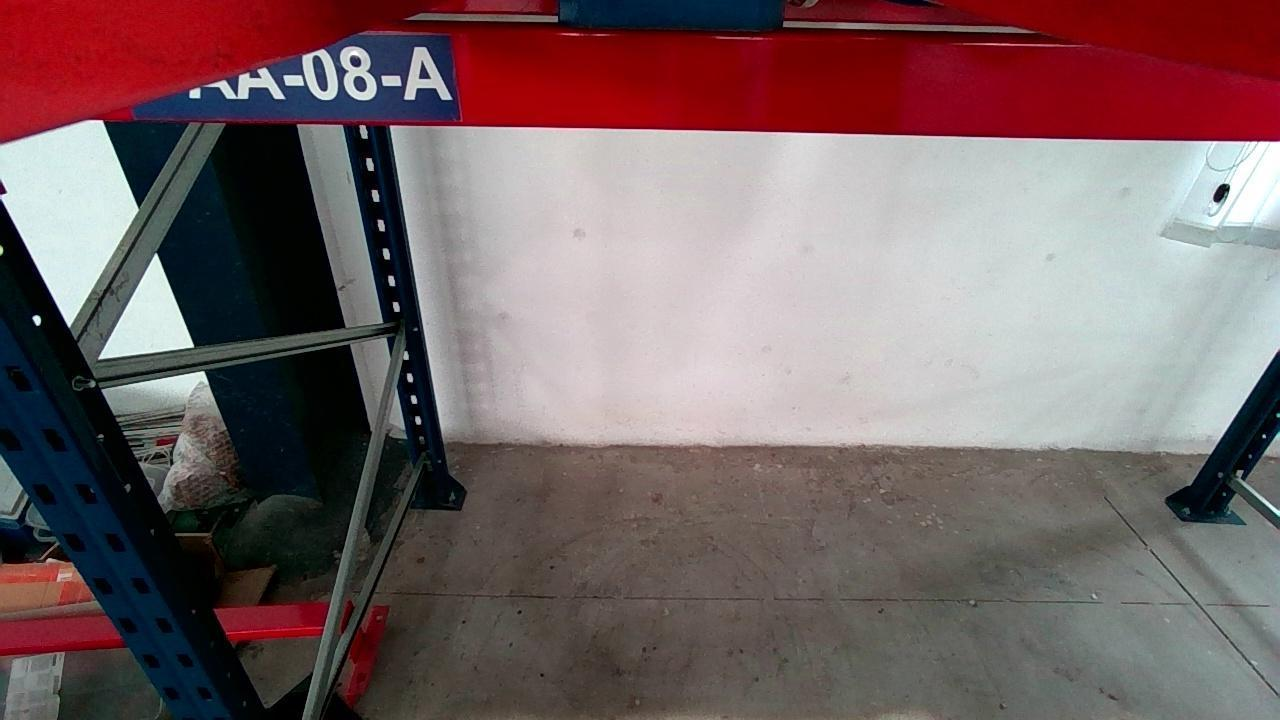h_rack: (100, 28, 1280, 141)
